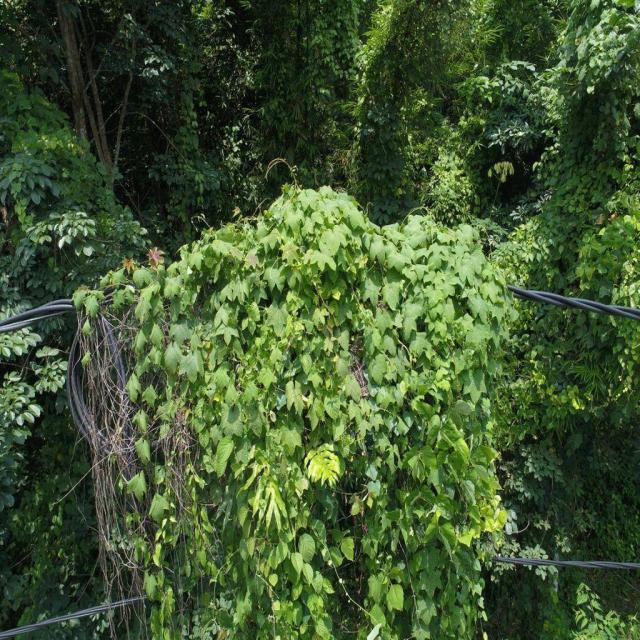critical vegetation: (70, 153, 512, 402)
